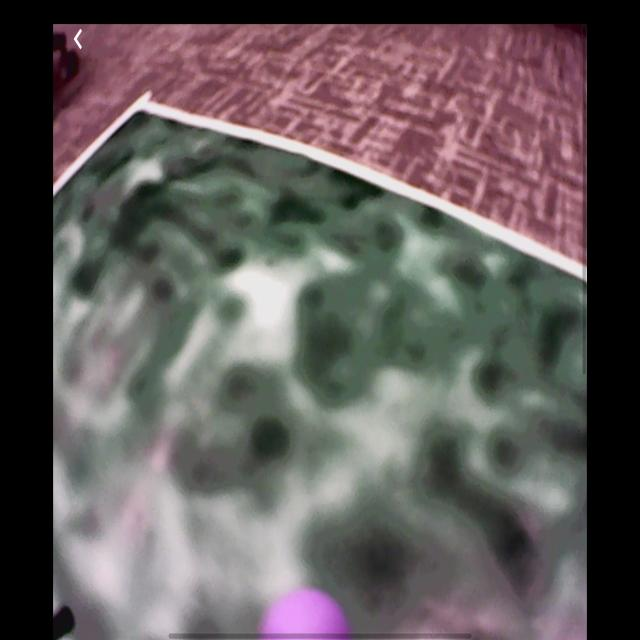ball: (258, 586, 352, 639)
